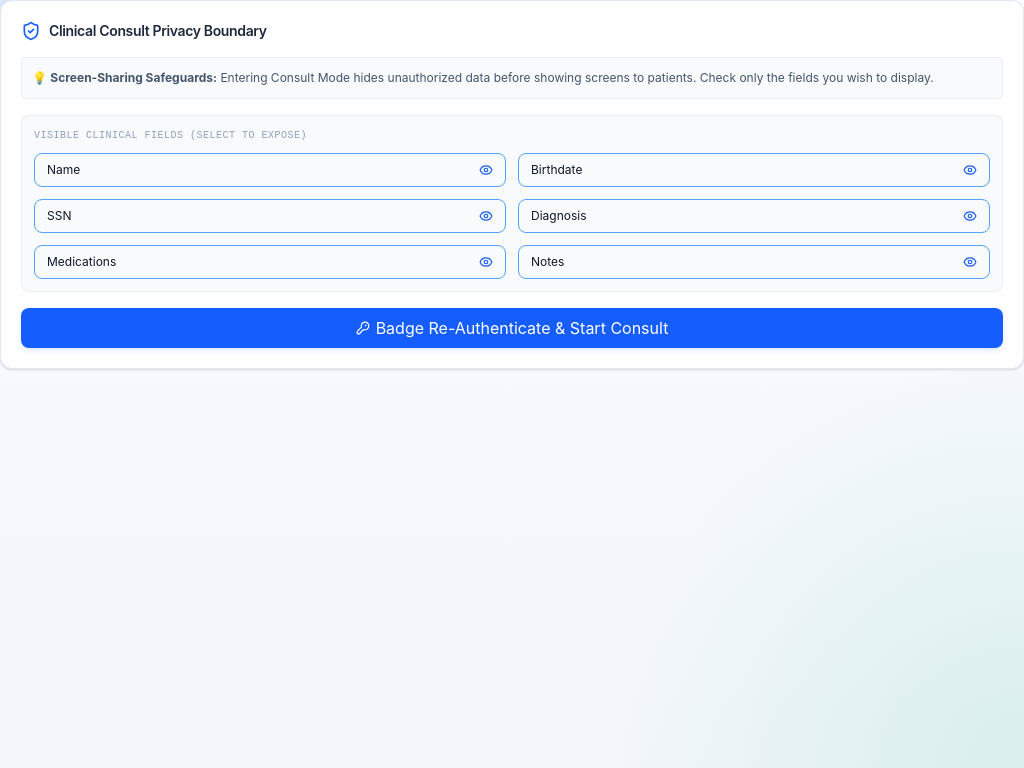
Test: ConsultModeManager › closes the re-auth dialog without activating consult mode
Click the button "Badge Re-Authenticate & Start Consult".
click(512, 328)  # box [21, 308, 1003, 348]
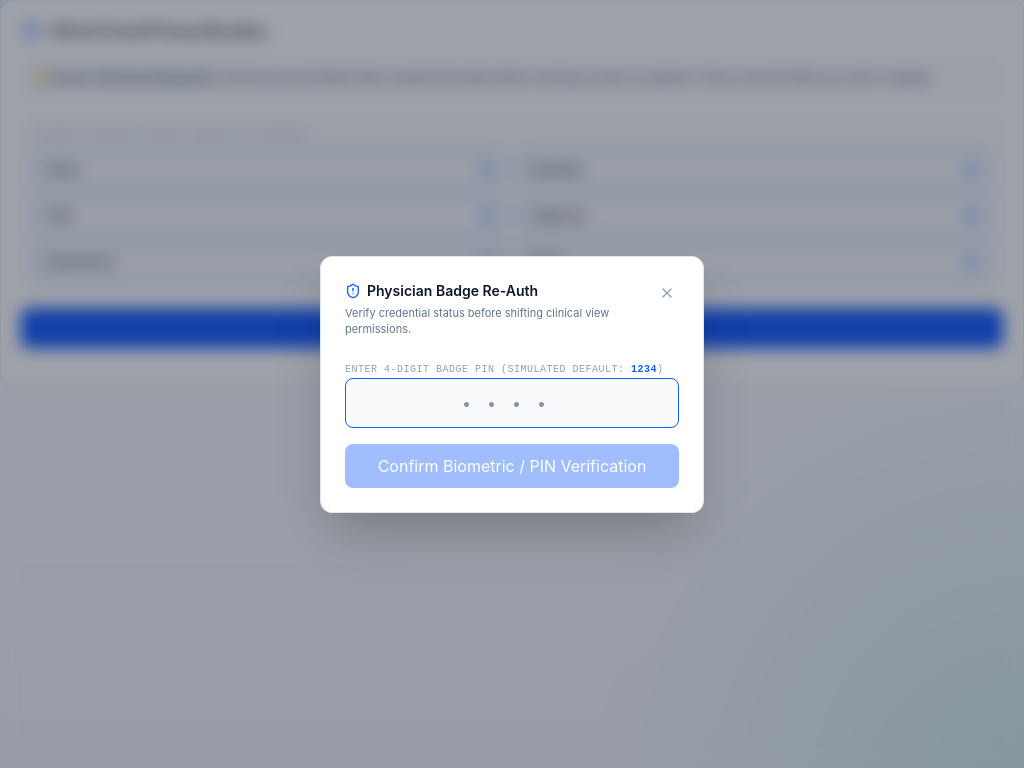
Check: the heading "Physician Badge Re-Auth" is shown, box [345, 282, 538, 298]
Click the 1st button.
click(667, 292)  # box [655, 280, 679, 304]
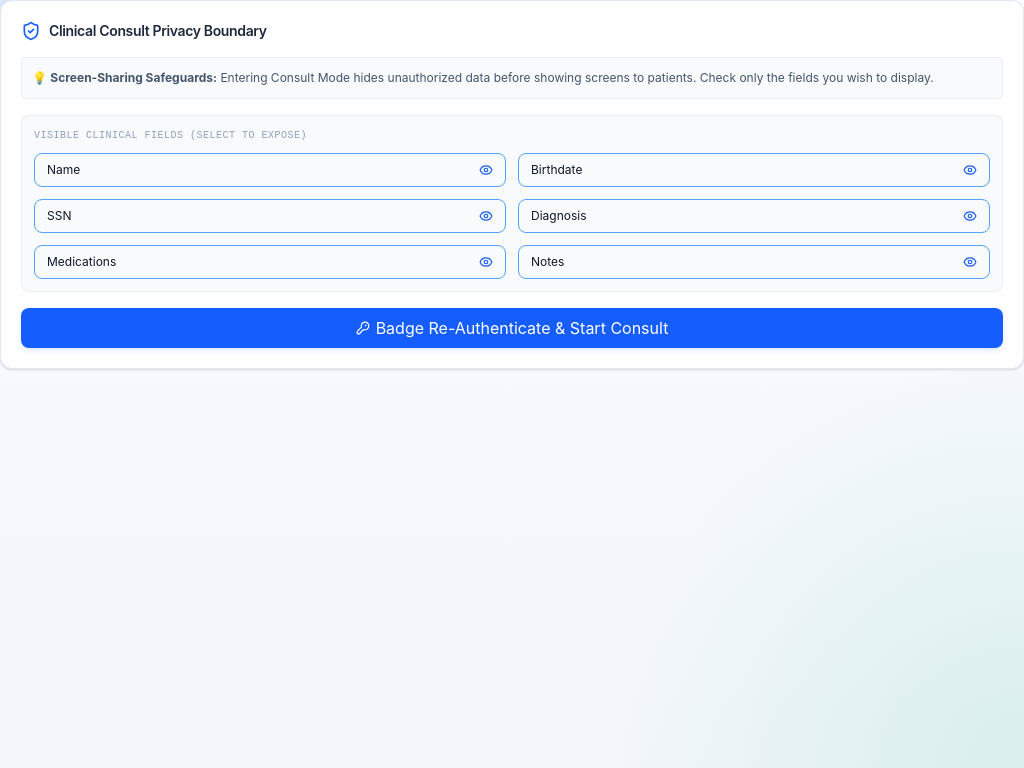
Check: the heading "Physician Badge Re-Auth" is gone
